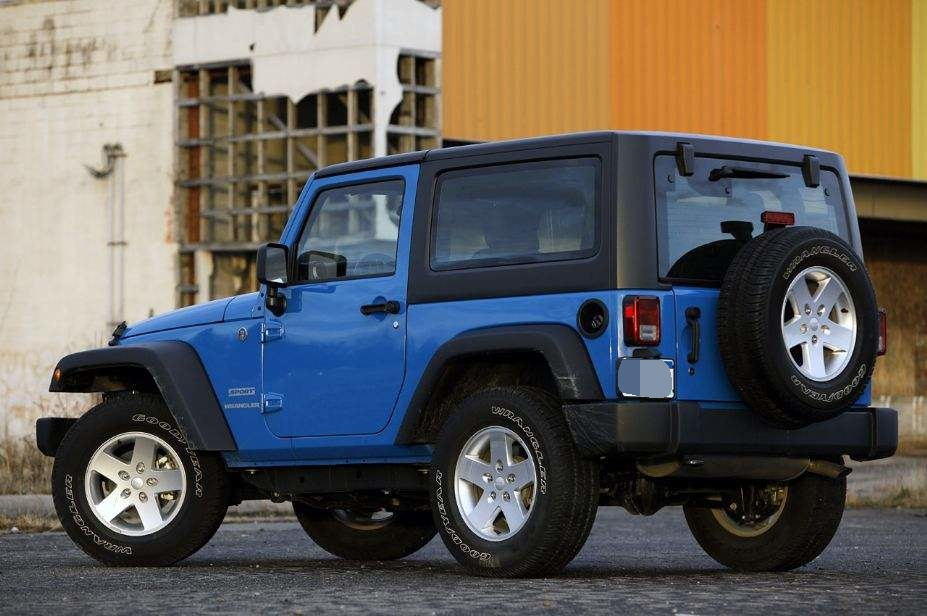jeep: (45, 137, 889, 571)
